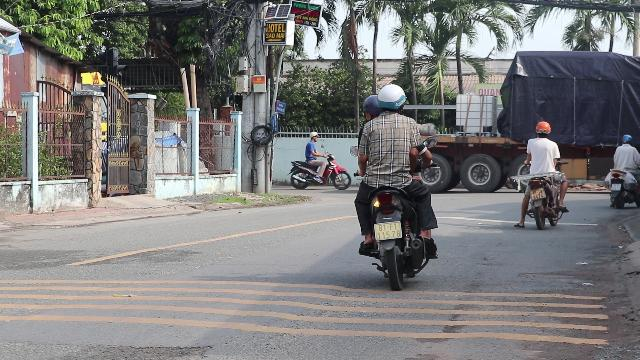helmet: (377, 82, 408, 114), (362, 94, 380, 118), (534, 121, 550, 138)
licenseplate: (375, 221, 403, 241), (530, 188, 544, 197)
motorcyclist: (350, 80, 442, 284), (516, 120, 568, 228)
